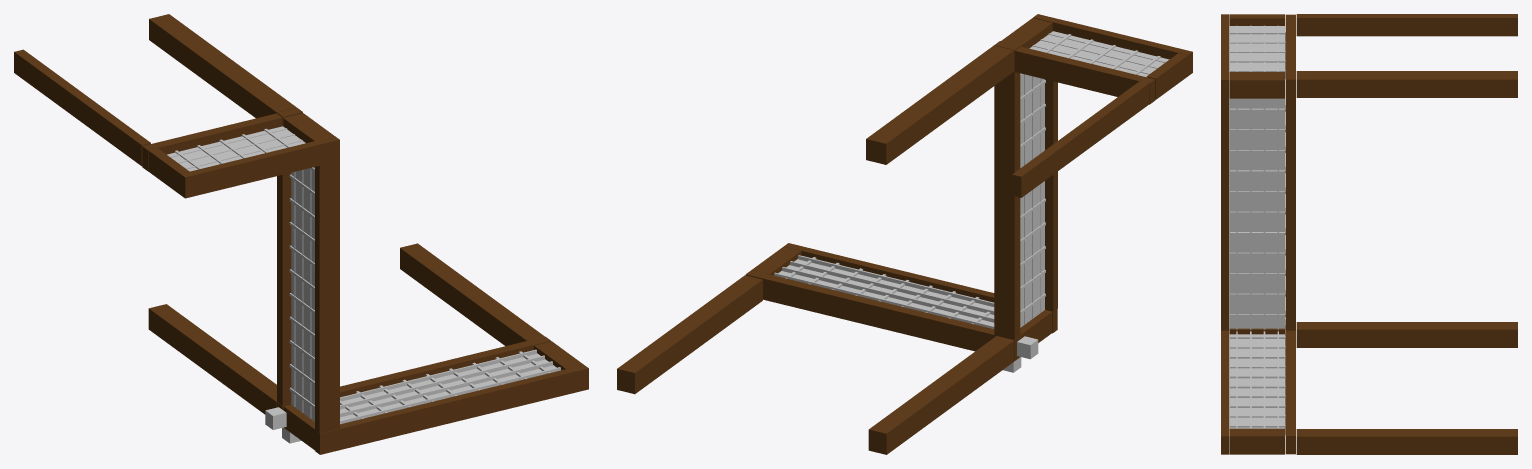
File: arcosDerecha.obj
3 views of the same model, side by side, from view 1: azimuth 30°, elevation 25°; view 2: azimuth 150°, elevation 25°; view 3: azimuth 270°, elevation 25° (orthographic). The views are drawn at different scales.
Visible parts, largest first — view 1: group_0_6306067, group_0_14860437, group_0_11107152, group_0_16755786; view 2: group_0_6306067, group_0_14860437, group_0_11107152, group_0_16755786; view 3: group_0_6306067, group_0_14860437, group_0_11107152.
Part boxes in pixels (x1,y1,x2,y2): group_0_6306067: [14, 14, 588, 454]; group_0_14860437: [167, 126, 556, 421]; group_0_11107152: [170, 128, 560, 424]; group_0_16755786: [265, 407, 301, 443]; group_0_6306067: [617, 14, 1192, 454]; group_0_14860437: [778, 31, 1169, 327]; group_0_11107152: [774, 33, 1165, 328]; group_0_16755786: [1003, 336, 1038, 372]; group_0_6306067: [1221, 14, 1517, 454]; group_0_14860437: [1229, 26, 1284, 428]; group_0_11107152: [1230, 25, 1285, 435].
Bounding box in the file's own units: 120 × 92.2 × 88.1.
